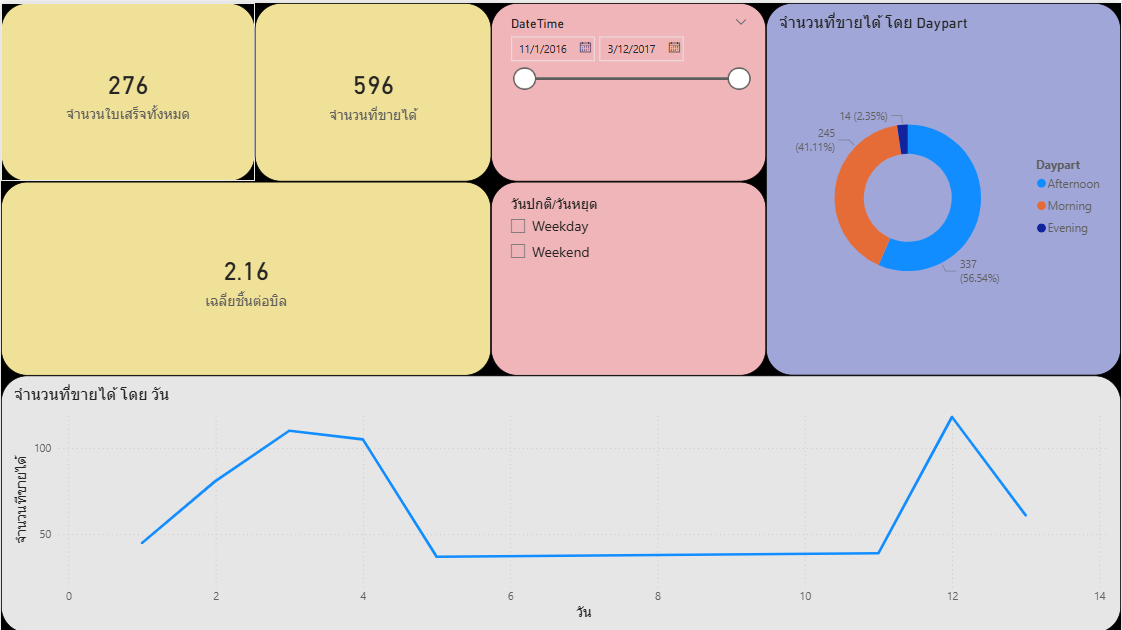

The dashboard page shown, as its layout file describes it:
{"tool":"powerbi","page":{"name":"หน้า 1","canvas":[1280,720],"ordinal":0},"visuals":[{"type":"slicer","fields":{"Values":["Bakery.DayType"]},"box":[560,204.3,314.3,221.4],"z":0},{"type":"slicer","fields":{"Values":["Bakery.DateTime"]},"box":[560,0,314.3,204.3],"z":1000},{"type":"card","fields":{"Values":["Bakery.จำนวนใบเสร็จทั้งหมด"]},"box":[0,0,290,204.3],"z":2000},{"type":"card","fields":{"Values":["Bakery.จำนวนที่ขายได้"]},"box":[290,0,270,204.3],"z":3000},{"type":"donutChart","fields":{"Category":["Bakery.Daypart"],"Y":["Bakery.จำนวนที่ขายได้"]},"box":[874.3,0,405.7,425.7],"z":4000},{"type":"card","fields":{"Values":["Bakery.เฉลี่ยชิ้นต่อบิล"]},"box":[0,204.3,560,221.4],"z":5000},{"type":"lineChart","fields":{"Category":["Bakery.DateTime.ตัวแปร.ลำดับชั้นวันที่.ปี","Bakery.DateTime.ตัวแปร.ลำดับชั้นวันที่.ไตรมาส","Bakery.DateTime.ตัวแปร.ลำดับชั้นวันที่.เดือน","Bakery.DateTime.ตัวแปร.ลำดับชั้นวันที่.วัน"],"Y":["Bakery.จำนวนที่ขายได้"]},"box":[0,425.7,1280,294.3],"z":6000}]}

Visuals, with their boxes in screenshot pixels (x1, y1, x2, y2), scaled from the page's 1280x720 canvas onto the 1122x630 screenshot:
slicer - Bakery.DayType: box=[491, 179, 766, 372]
slicer - Bakery.DateTime: box=[491, 0, 766, 179]
card - Bakery.จำนวนใบเสร็จทั้งหมด: box=[0, 0, 254, 179]
card - Bakery.จำนวนที่ขายได้: box=[254, 0, 491, 179]
donutChart - Bakery.Daypart x Bakery.จำนวนที่ขายได้: box=[766, 0, 1121, 372]
card - Bakery.เฉลี่ยชิ้นต่อบิล: box=[0, 179, 491, 372]
lineChart - Bakery.DateTime.ตัวแปร.ลำดับชั้นวันที่.ปี x Bakery.DateTime.ตัวแปร.ลำดับชั้นวันที่.ไตรมาส: box=[0, 372, 1121, 629]
